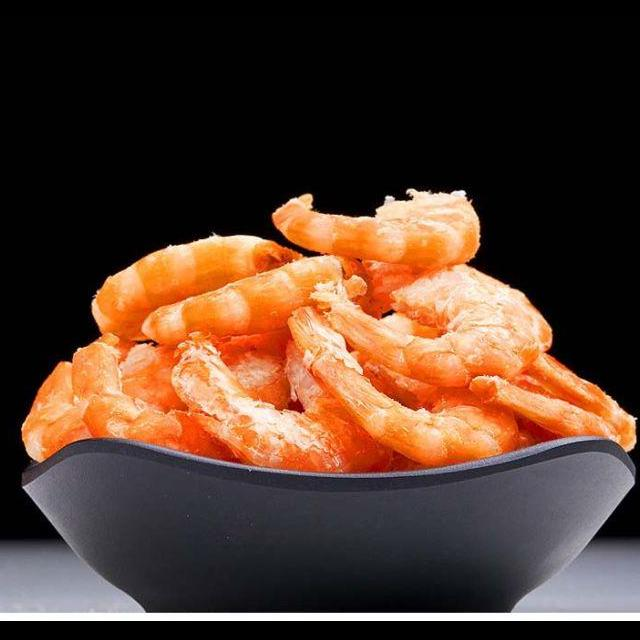tom: (284, 304, 525, 471), (167, 328, 401, 481), (301, 260, 556, 394), (86, 230, 316, 352), (136, 250, 371, 356), (67, 330, 244, 466), (16, 339, 199, 462), (460, 343, 640, 457), (267, 184, 484, 276)
